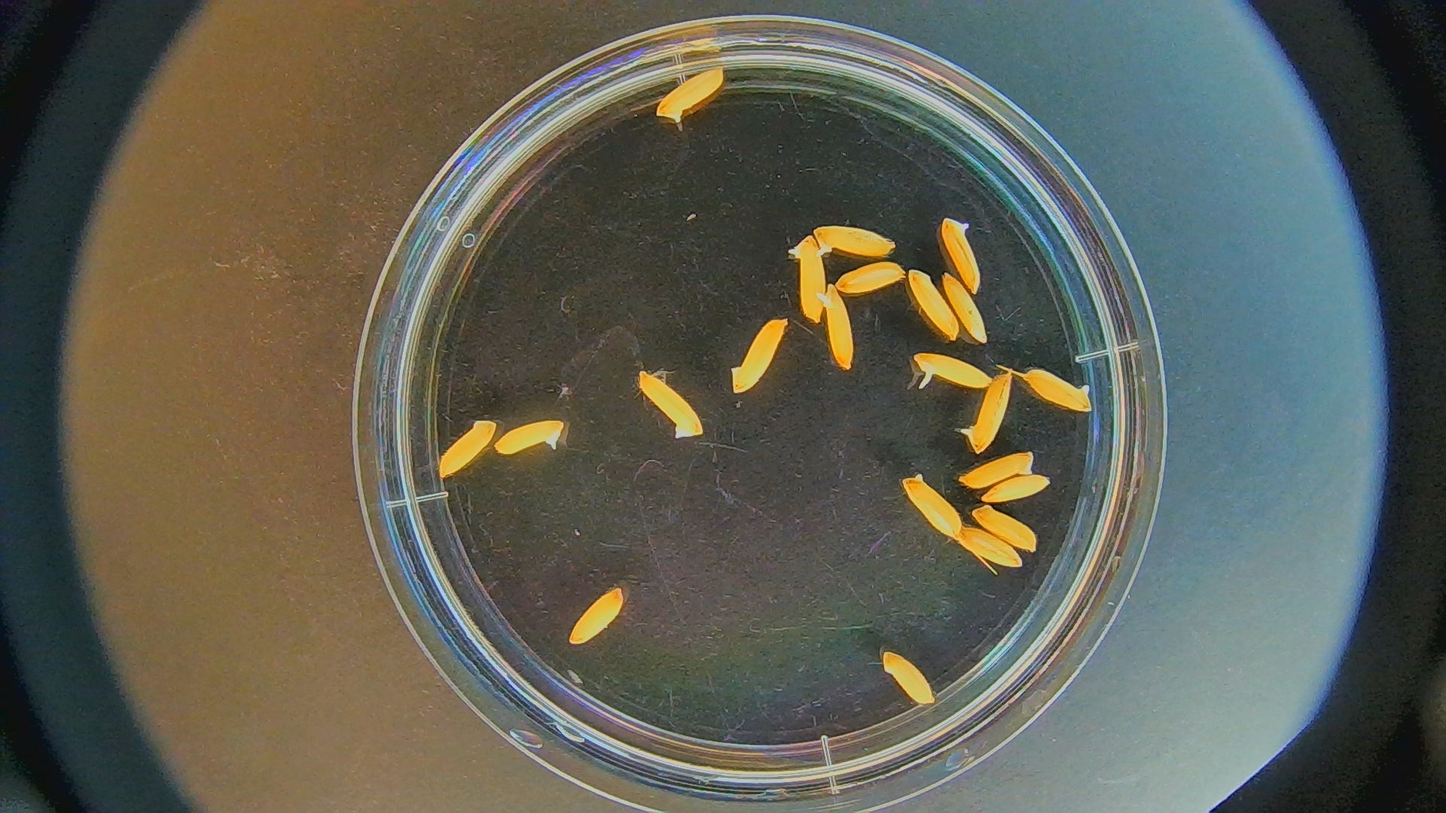no: (726, 315, 792, 397), (636, 372, 706, 440), (427, 417, 499, 483), (901, 473, 962, 540), (906, 271, 960, 338), (568, 584, 627, 645), (938, 217, 983, 294), (972, 503, 1037, 556), (941, 273, 990, 343), (787, 236, 825, 322), (1021, 367, 1092, 413), (958, 450, 1036, 489), (882, 650, 936, 706), (959, 523, 1023, 567), (493, 419, 566, 457), (834, 262, 906, 294), (979, 477, 1051, 505)
yes: (953, 359, 1014, 457), (657, 64, 743, 118), (813, 283, 857, 370), (913, 349, 994, 389), (813, 222, 897, 256)
